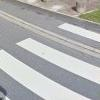Crosswalk: (10, 23, 100, 100)
